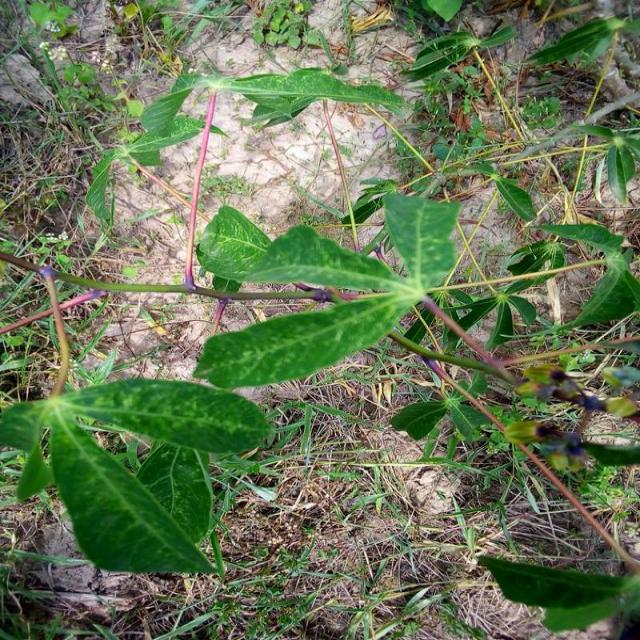cassava leaf: (2, 375, 274, 575), (192, 191, 463, 389)
